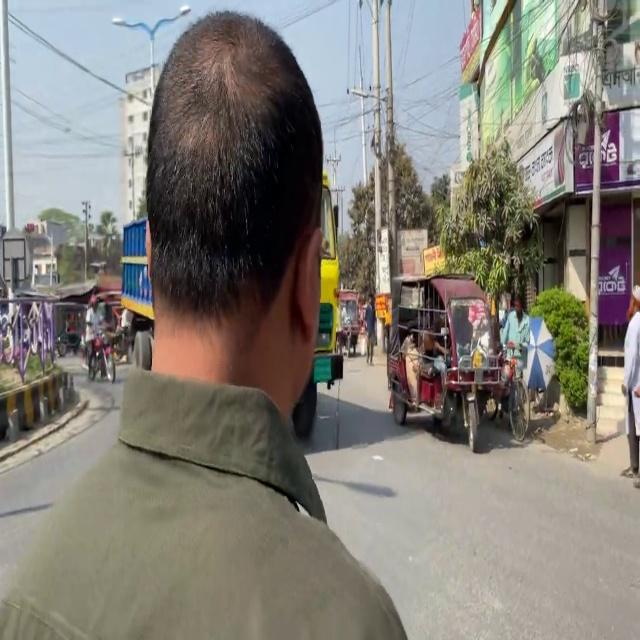Construction-barrier: (0, 380, 114, 475), (593, 354, 627, 441)
Fallen-tree: (486, 339, 534, 442), (84, 326, 117, 382)
Garbage-bin: (0, 10, 409, 640), (621, 285, 639, 488)
Pothole: (0, 351, 132, 597)
Traffic-cone: (384, 271, 552, 452)
